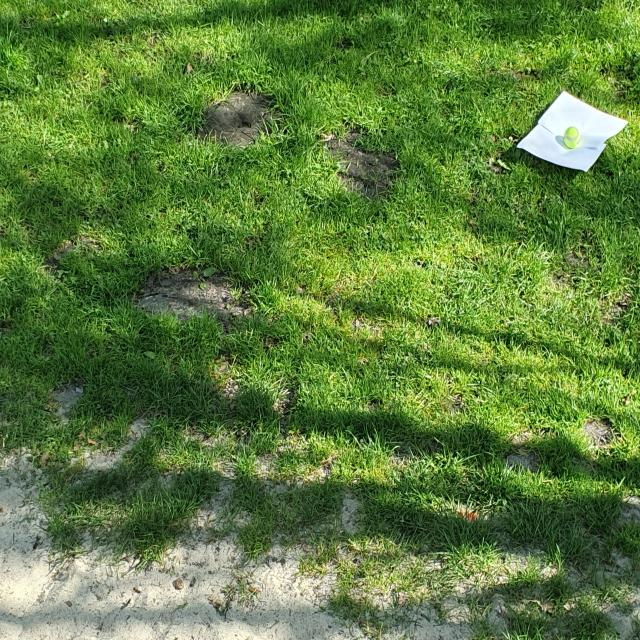green: (564, 126, 581, 149)
